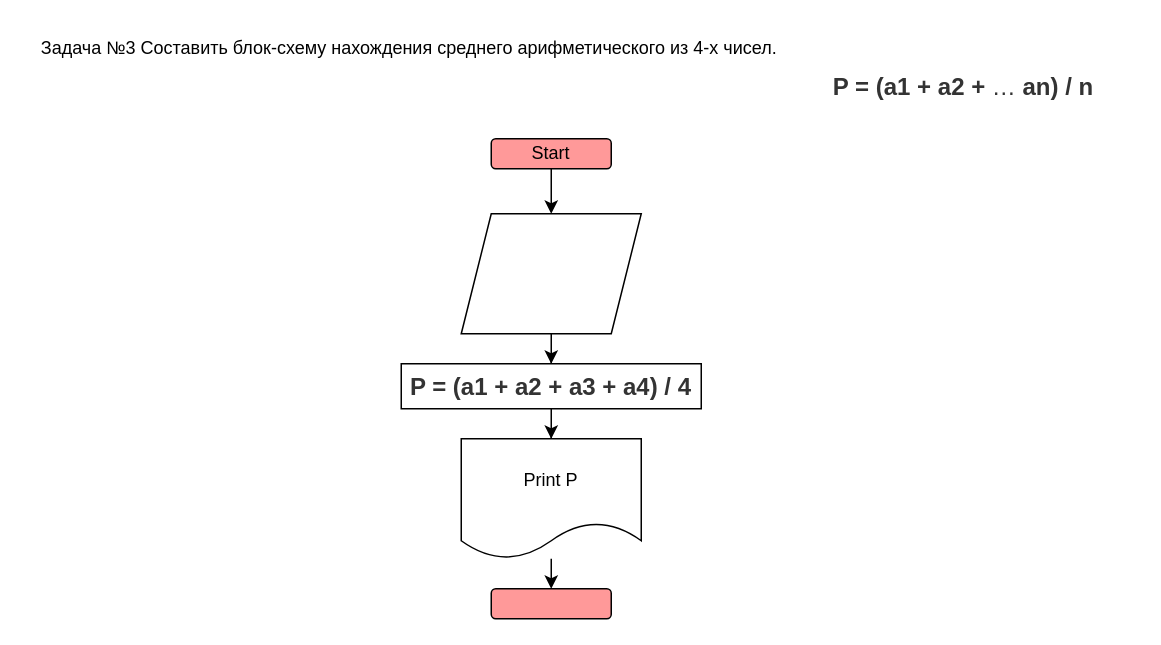
The diagram is 1161 pixels wide and 645 high, and some of its shapes have lost their labels. Here are the shapes that lost their labels. From the top down, the centre of each, then its label:
At (550,273): "а1 = а2 = а3 = а4 =".
At (550,603): "End".
